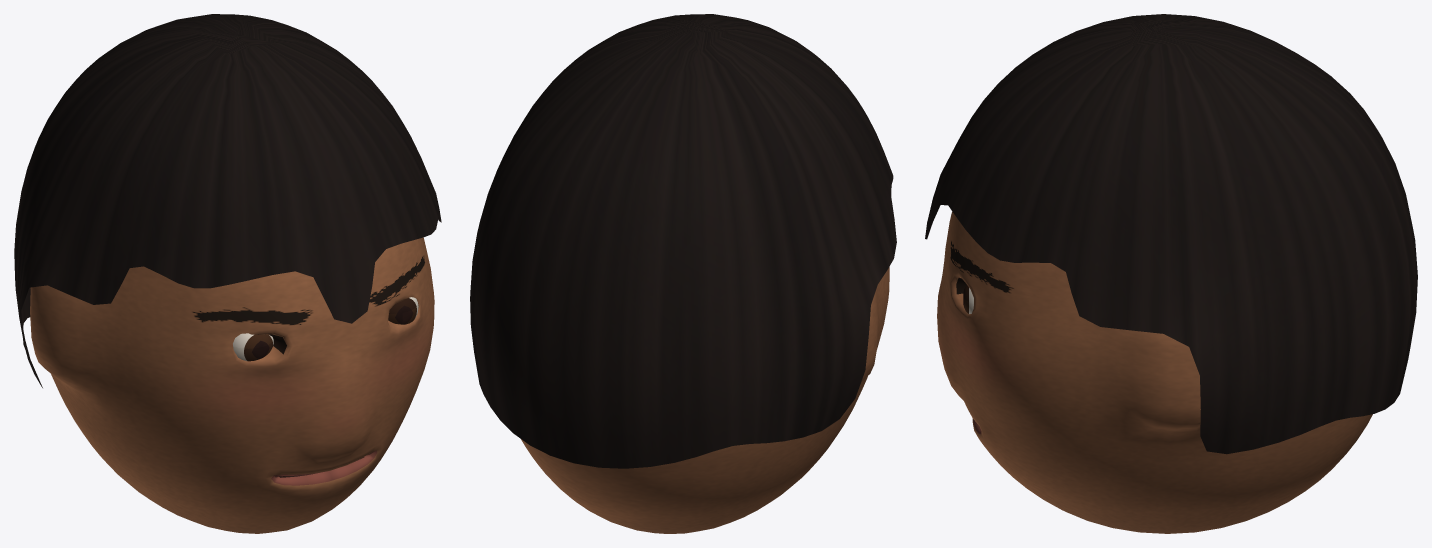
The model's file is cabeza.obj.
3 renders of one model, left to right at view 1: azimuth 30°, elevation 25°; view 2: azimuth 150°, elevation 25°; view 3: azimuth 270°, elevation 25°, orthographic. The views are drawn at different scales.
Visible parts, largest first — view 1: Pelo, Cabeza; view 2: Pelo, Cabeza; view 3: Pelo, Cabeza.
Part boxes in pixels (<box>): Pelo: <box>14,14,441,387</box>; Cabeza: <box>30,237,434,533</box>; Pelo: <box>470,14,896,468</box>; Cabeza: <box>521,267,889,533</box>; Pelo: <box>925,14,1417,454</box>; Cabeza: <box>937,211,1372,533</box>.
Size of the model in its own units: 0.1766 by 0.2069 by 0.1882.
Materials: 7 (7 with a texture image).
